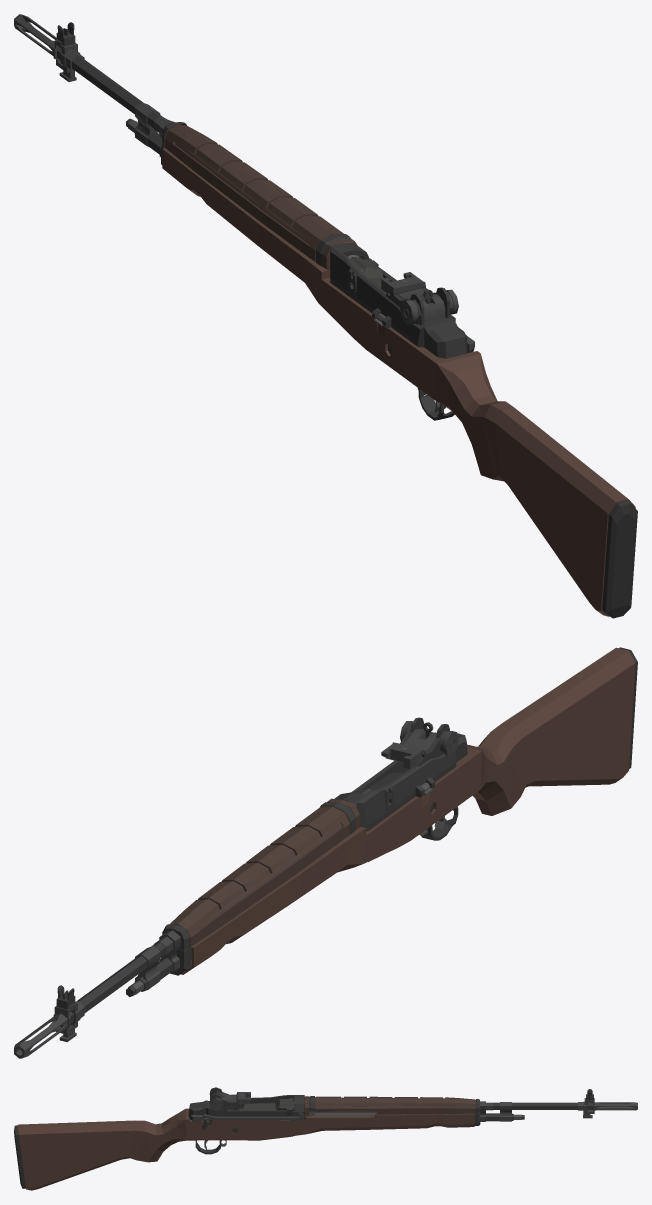
The model's file is m14_cuerpo.glb.
3 views of the same model, one above another, from view 1: azimuth 30°, elevation 25°; view 2: azimuth 150°, elevation 25°; view 3: azimuth 270°, elevation 25° (orthographic). The views are drawn at different scales.
Parts seen in each view (by area): view 1: m14_cuerpo; view 2: m14_cuerpo; view 3: m14_cuerpo.
Boxes of the visible parts, bbox=[...] form: m14_cuerpo: bbox=[14, 14, 637, 618]; m14_cuerpo: bbox=[14, 647, 637, 1058]; m14_cuerpo: bbox=[14, 1087, 637, 1190].
Size of the model in its own units: 0.0575 by 0.195 by 1.12.
